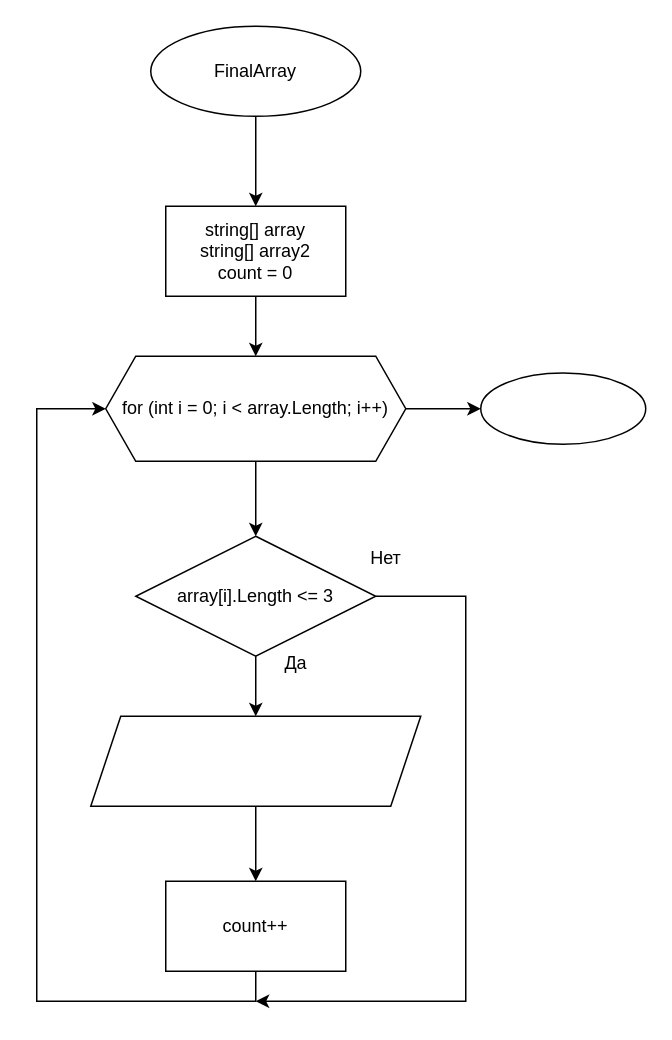
Image size: 672x1040. Some labels were removed from this diagram. The shapes that lost their labels are listed below. From the top down, each one's centre as x and y in pixels, then its label:
At pixel 562 408: "Конец".
At pixel 255 760: "Array2[count] = array [i]".
